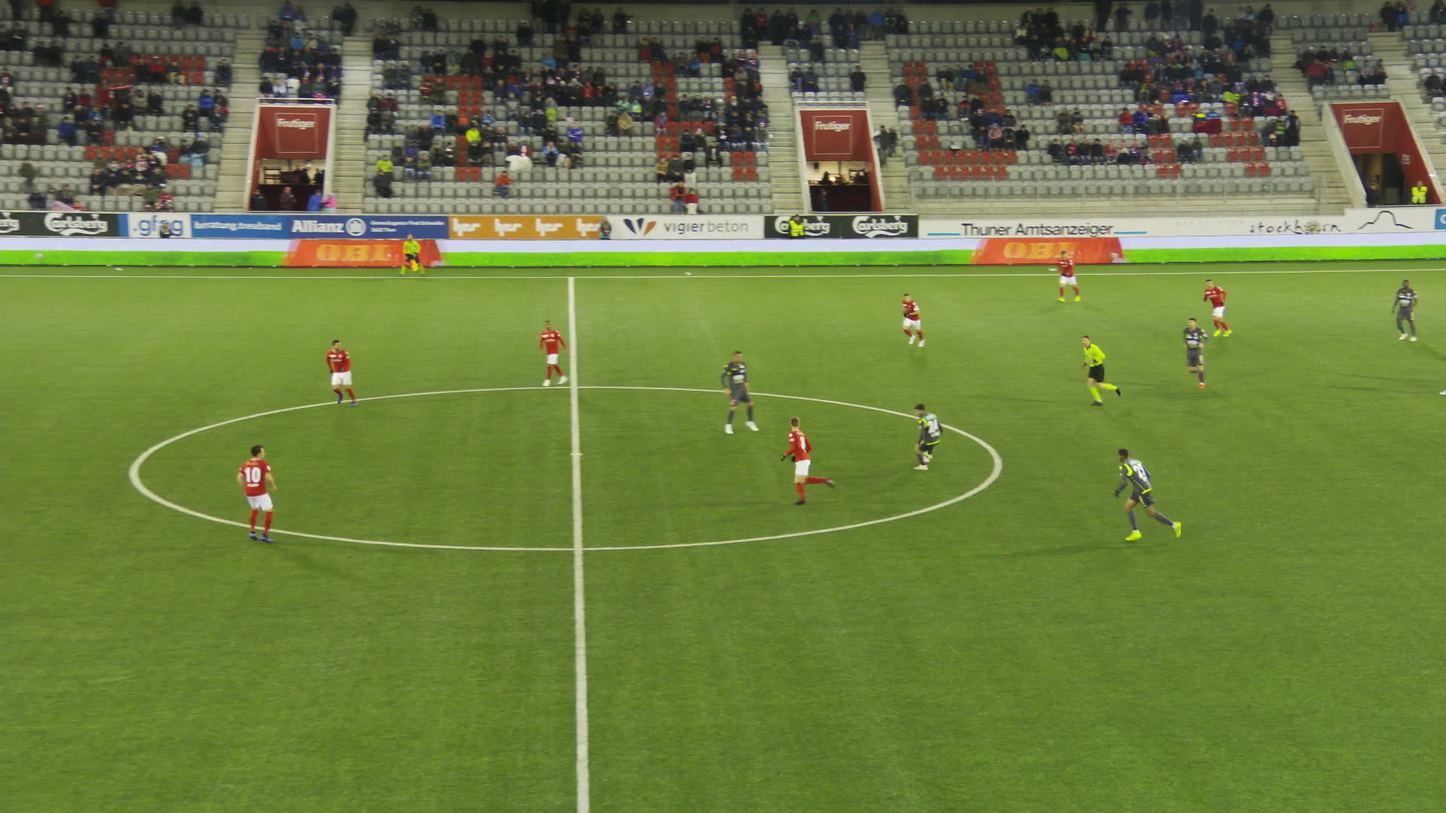ball: (914, 455, 923, 465)
player: (1097, 444, 1180, 544), (770, 413, 844, 507), (227, 440, 279, 546), (709, 347, 754, 436), (902, 400, 946, 473), (527, 315, 565, 388), (316, 333, 352, 410), (1173, 312, 1206, 391), (1194, 276, 1229, 340), (1382, 273, 1414, 343), (892, 290, 922, 351), (1053, 248, 1081, 304), (1432, 317, 1445, 397)
referee: (1072, 331, 1121, 407), (391, 224, 421, 278)
